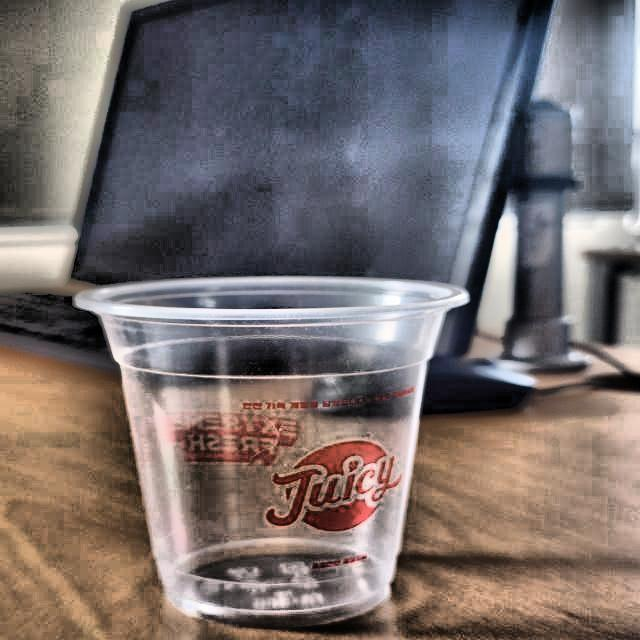plastic cup: (62, 278, 472, 626)
